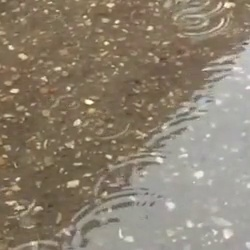drop: (134, 111, 213, 191), (69, 190, 152, 250), (93, 153, 168, 202), (174, 8, 226, 37), (1, 188, 34, 219), (96, 116, 131, 142), (166, 1, 223, 16), (6, 238, 62, 250), (18, 213, 37, 231), (57, 95, 79, 109)
